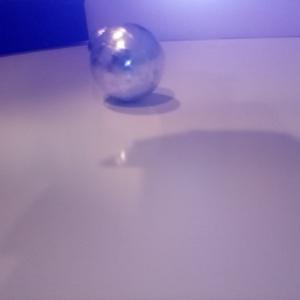alive_ball: (91, 23, 164, 102), (87, 25, 120, 58)
